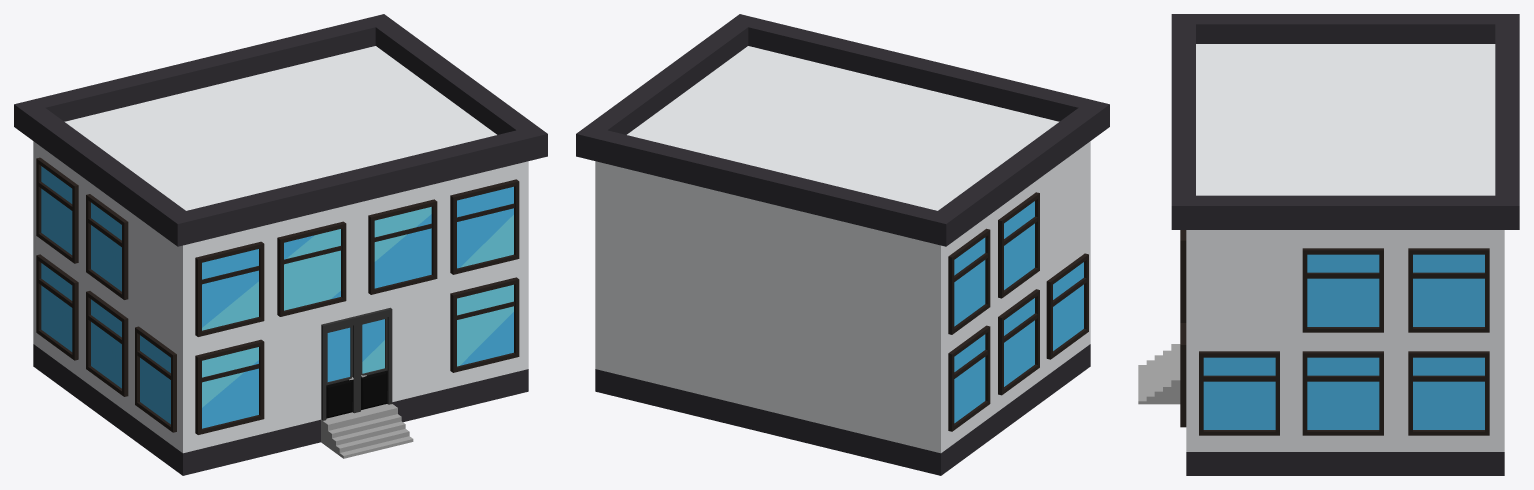
The model's file is Env_CompanyBuilding_03.fbx.
3 views of the same model, side by side, from view 1: azimuth 30°, elevation 25°; view 2: azimuth 150°, elevation 25°; view 3: azimuth 270°, elevation 25° (orthographic). The views are drawn at different scales.
Parts seen in each view (by area): view 1: Env_CompanyBuilding_03; view 2: Env_CompanyBuilding_03; view 3: Env_CompanyBuilding_03.
Boxes of the visible parts, x1=… form: Env_CompanyBuilding_03: x1=14, y1=14, x2=547, y2=475; Env_CompanyBuilding_03: x1=576, y1=14, x2=1109, y2=475; Env_CompanyBuilding_03: x1=1138, y1=14, x2=1519, y2=475.
Size of the model in its own units: 1117 by 749 by 937.
Materials: 1 (1 with a texture image).
